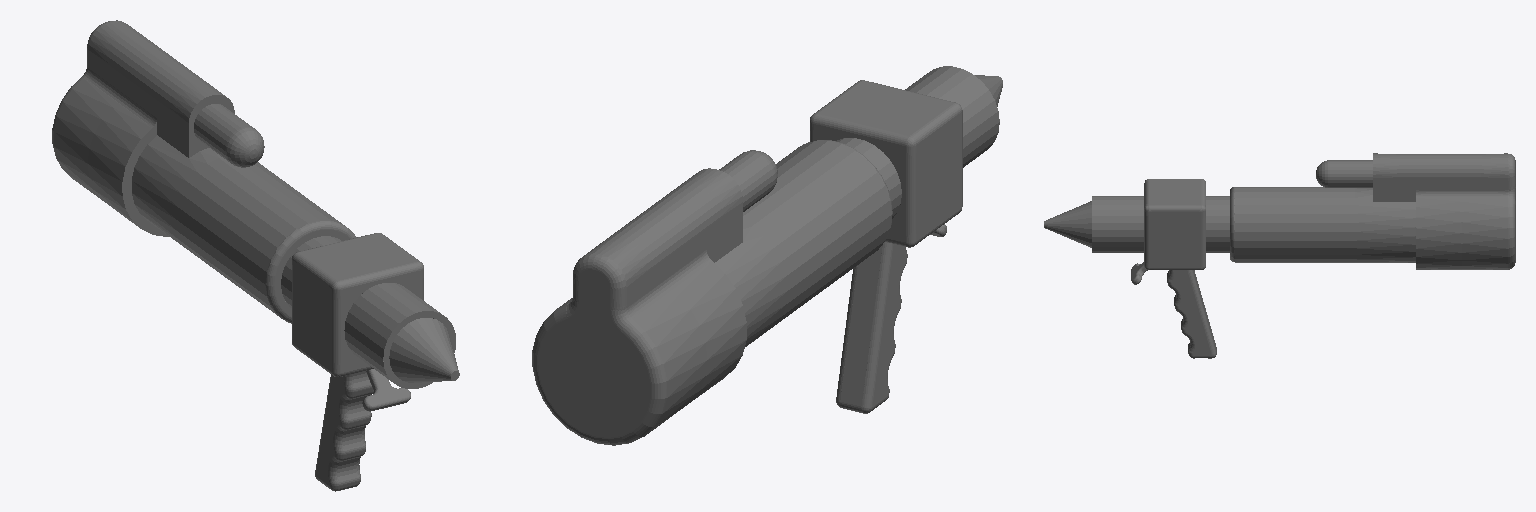
The robot description file, URDF, robot "plane":
<?xml version="0.0" ?>
<robot name="plane">
  <link name="planeLink">
  <contact>
      <lateral_friction value="1"/>
  </contact>
    <inertial>
      <origin rpy="0 0 0" xyz="0 0 0"/>
       <mass value=".0"/>
       <inertia ixx="0" ixy="0" ixz="0" iyy="0" iyz="0" izz="0"/>
    </inertial>
    <visual>
      <origin rpy="0 0 0" xyz="0 0 0"/>
      <geometry>
				<mesh filename="grease_gun.stl" scale="0.7 0.7 0.7"/>
      </geometry>
      <material name="grey">
        <color rgba="0.5 0.5 0.5 1.0"/>
      </material>
    </visual>
    <collision>
      <origin rpy="0 0 0" xyz="0 0 0"/>
      <geometry>
				<mesh filename="grease_gun.stl" scale="0.7 0.7 0.7"/>
      </geometry>
    </collision>
  </link>
</robot>

--- What the picture shows (computed from the rendered views, not written in the file) ---
3 views of the same robot in one strip: view 1: azimuth 30°, elevation 25°; view 2: azimuth 150°, elevation 25°; view 3: azimuth 270°, elevation 25° (orthographic).
Model plane with 1 links and 0 joints (none), rooted at planeLink, posed every joint at zero.
Links seen in each view (by area): view 1: planeLink; view 2: planeLink; view 3: planeLink.
Link boxes in pixels (x1,y1,x2,y2): planeLink: [52, 20, 459, 491]; planeLink: [532, 66, 1002, 445]; planeLink: [1044, 153, 1515, 358].
Bounding box of the posed robot: 0.266 × 1.39 × 0.6477 m (x, y, z).
Meshes: 1 distinct files referenced, 1 mesh visuals loaded (1 binary STL).